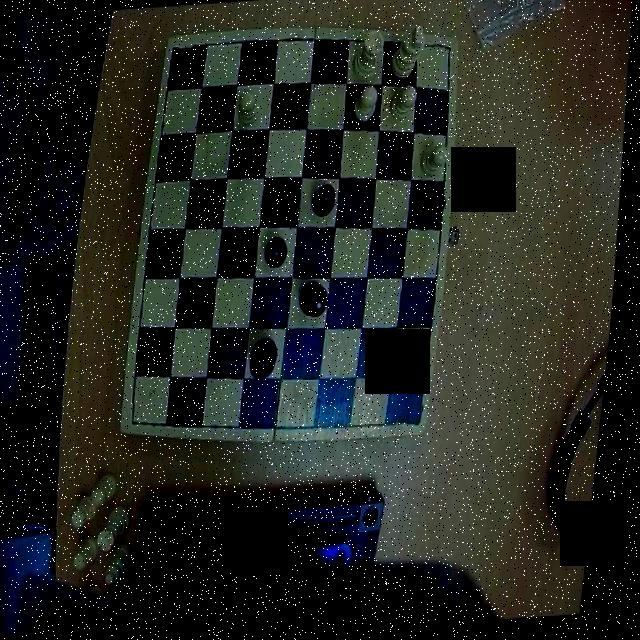chess-table-corners: (130, 402, 164, 433), (401, 404, 436, 434), (162, 38, 195, 69), (432, 38, 459, 66)
